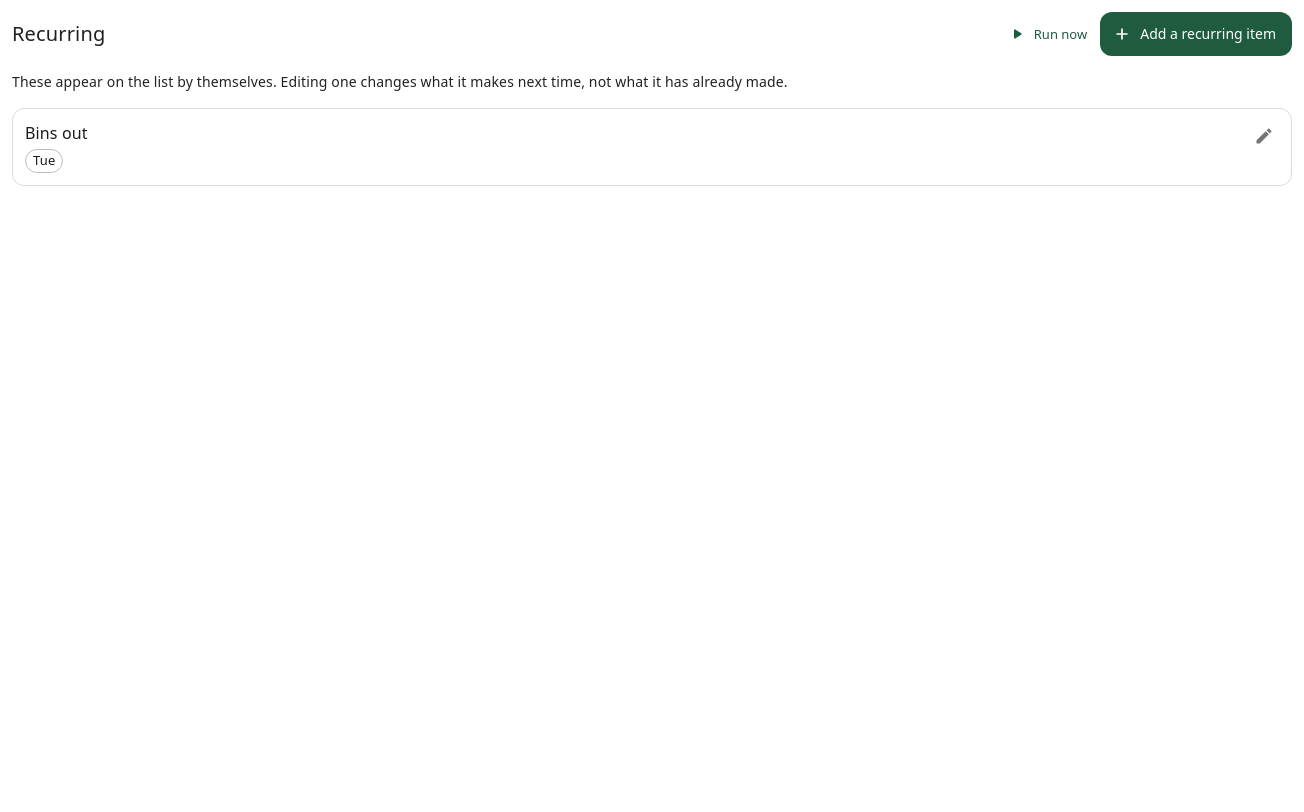
Test: RecurrenceSection › says plainly when a run was not due rather than looking broken
The width and height of the screenshot is (1304, 812).
Click the button "Run now": (1048, 34) [1005,12,1092,56]
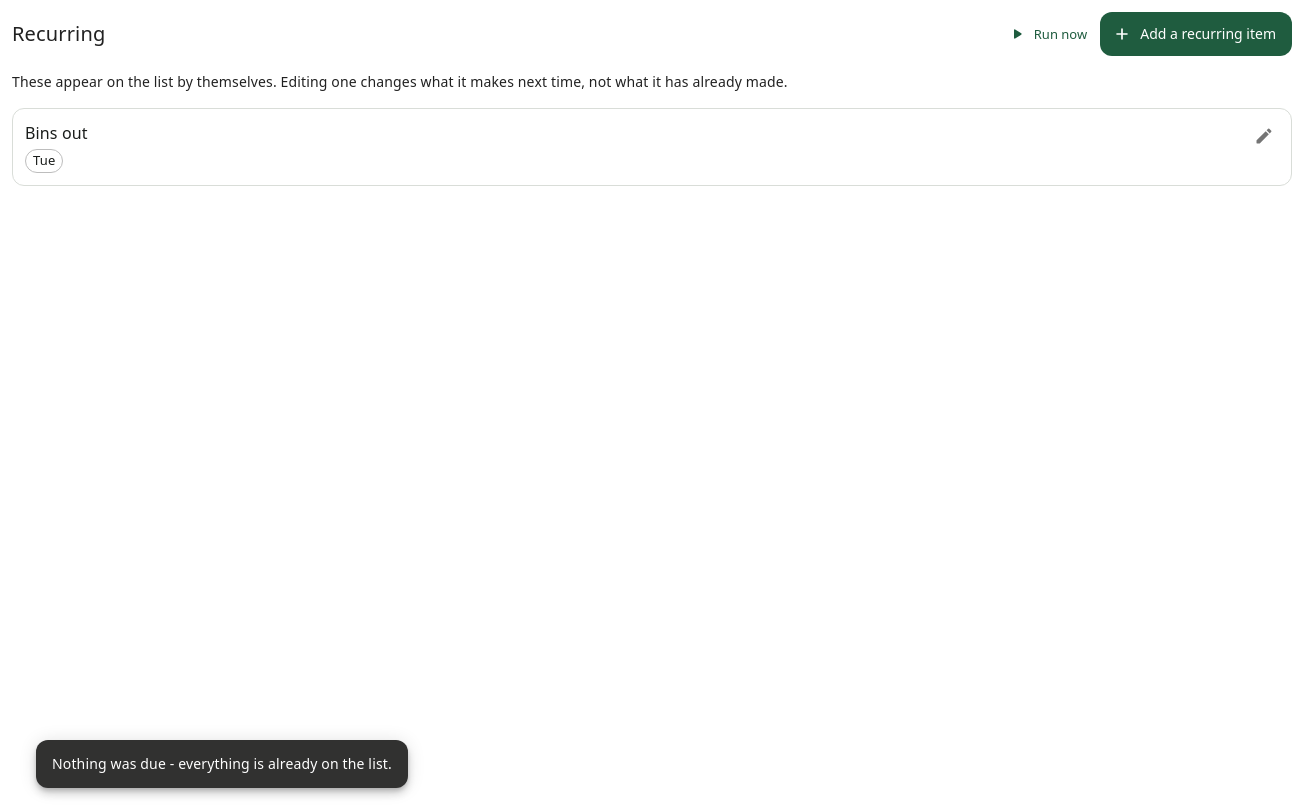
expect the text "Nothing was due - everything is already on the list." is shown: met, box [52,754,392,773]
